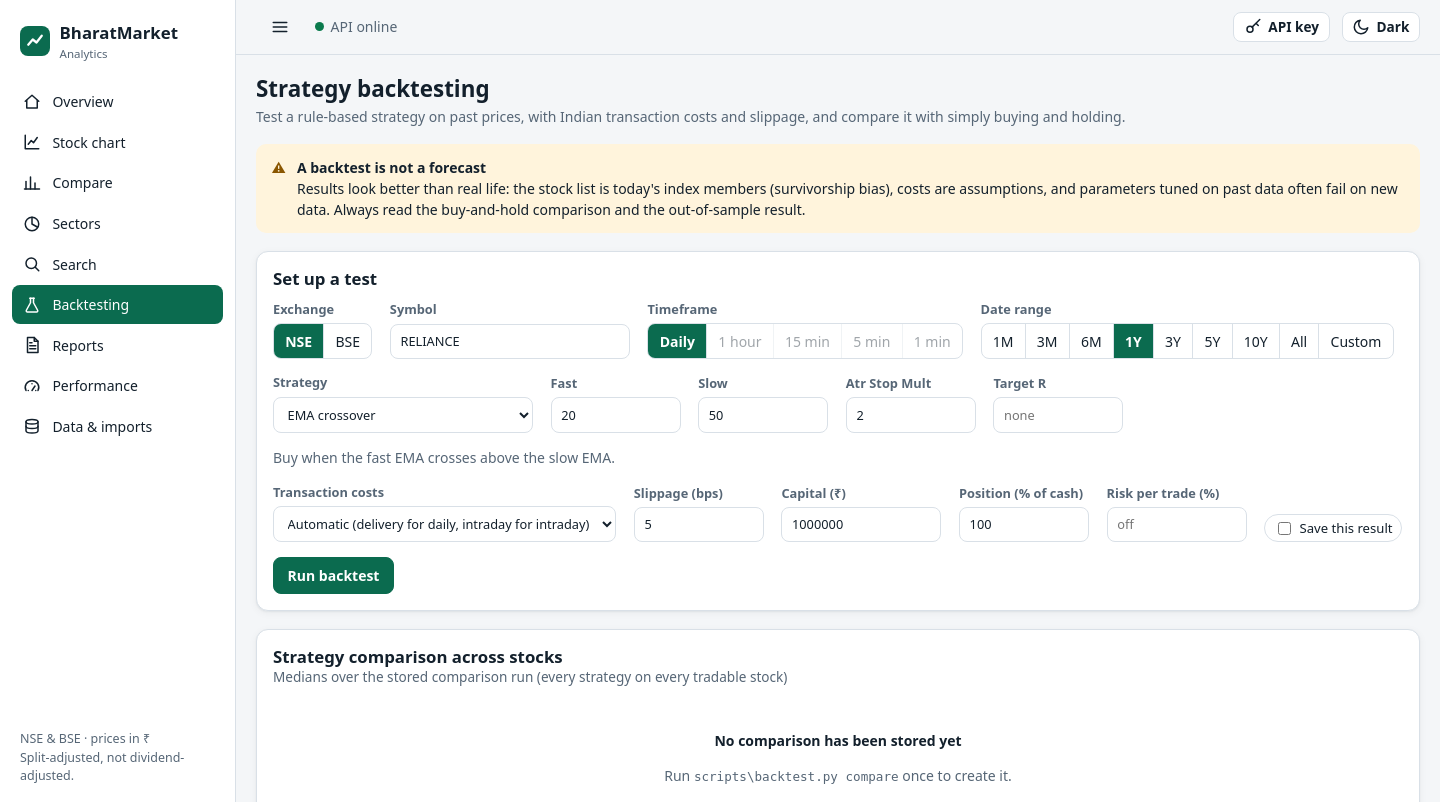
Test: Backtest page › tells the user to enter the API key when saving is refused
Click the checkbox labelled "Save this result" at (1284, 528), box [1278,522,1291,535]
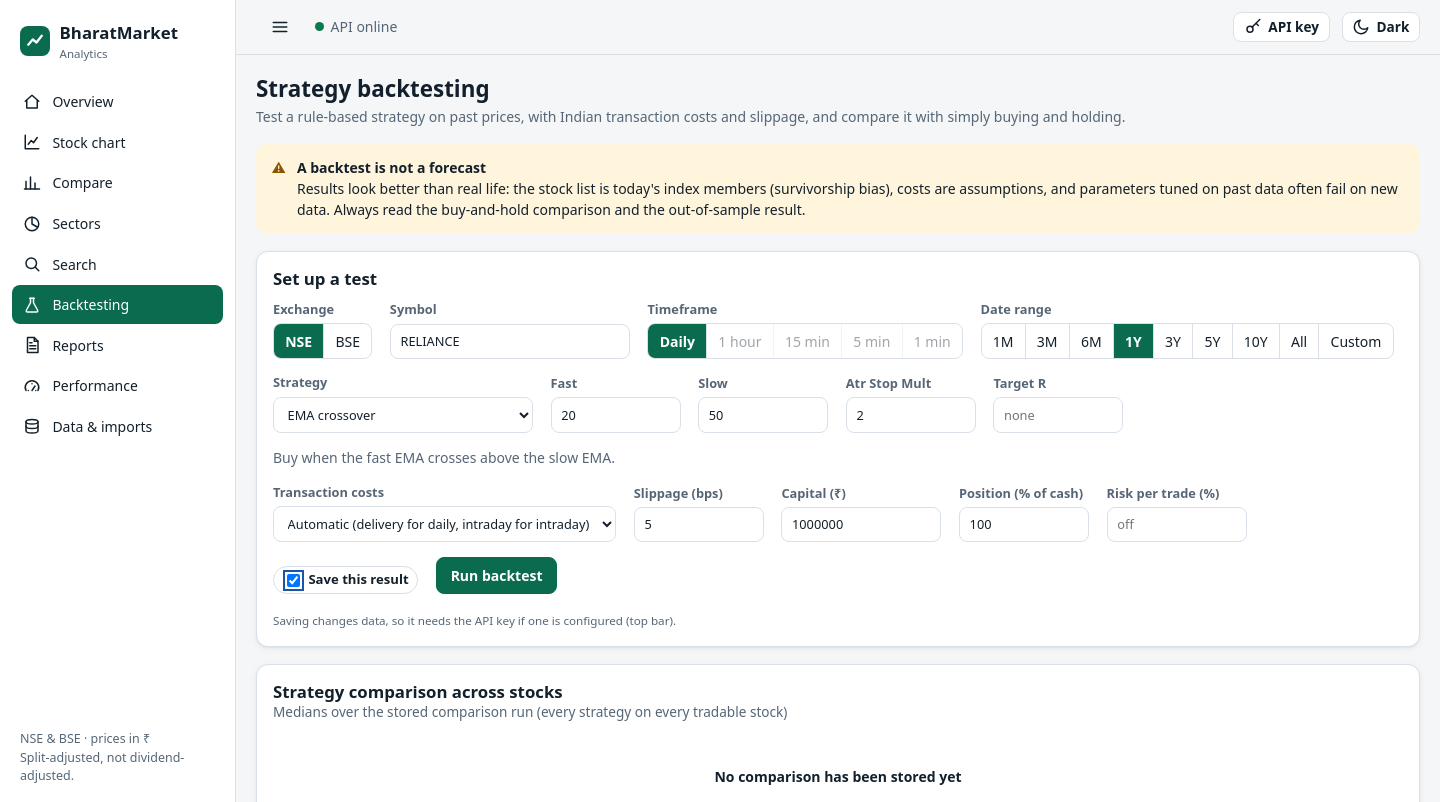
Click the button "Run backtest" at (496, 576), box [436,557,557,594]
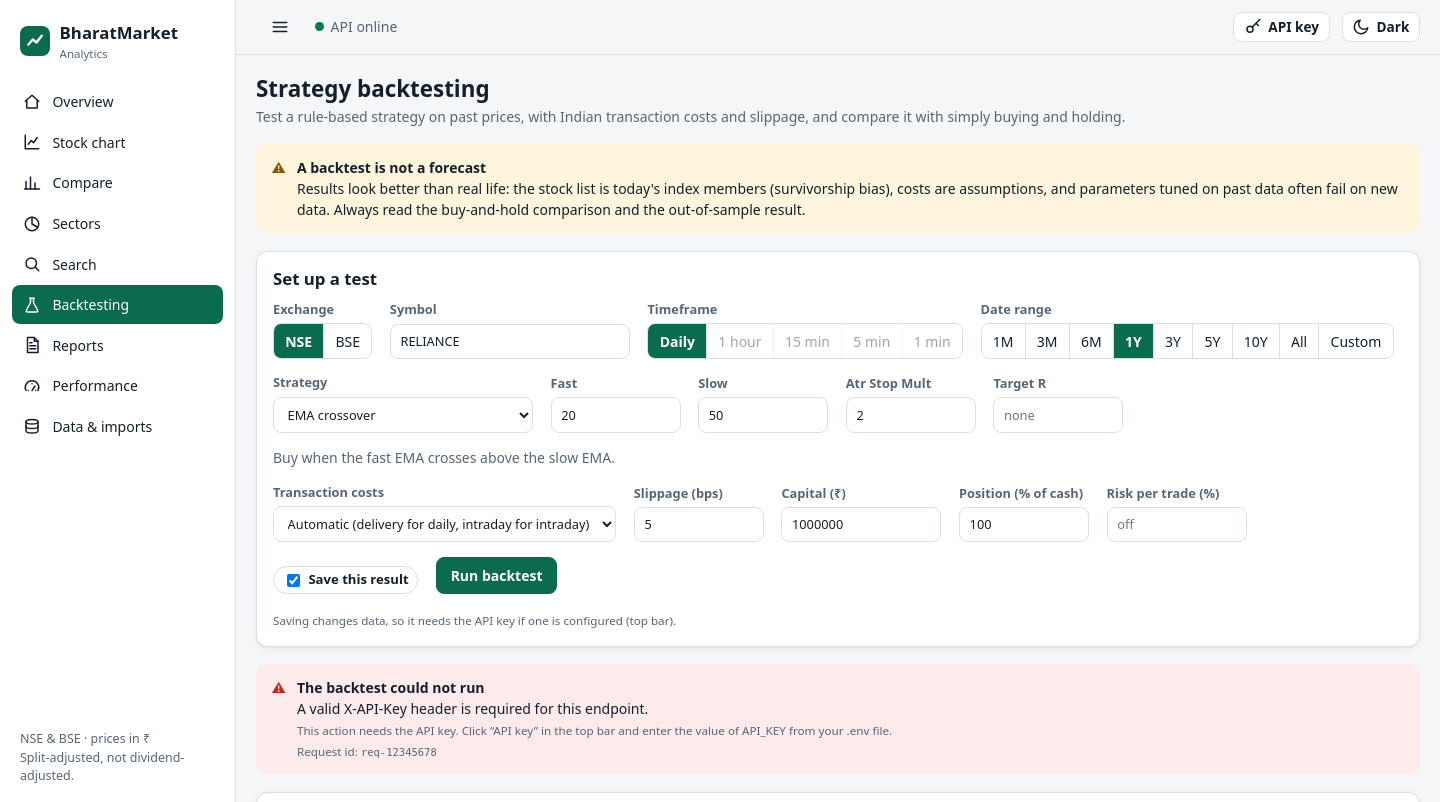
Now the message that starts with "The backtest could not run" is shown, box [297,678,484,697]
Now the message that starts with "The backtest could not run" shows "API key", box [297,723,892,738]
